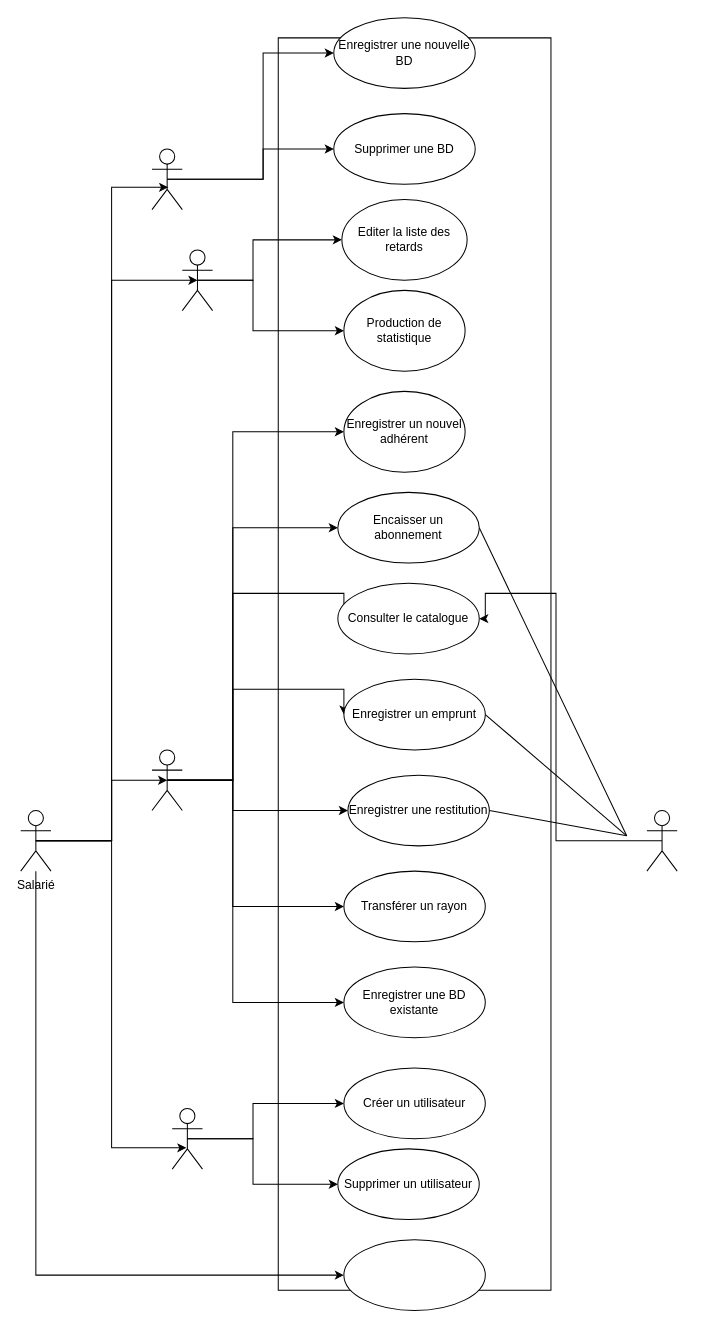
The diagram is 704 pixels wide and 1328 high, and some of its shapes have lost their labels. The centre of each missing label's shape, as x and y in pixels:
"Adhérent" belongs at (661,840).
"administrateur" belongs at (187,1138).
"Bibliothécaire" belongs at (166,780).
"Gestionnaire" belongs at (166,179).
"Responsable" belongs at (197,280).
"Se connecter" belongs at (414,1274).
